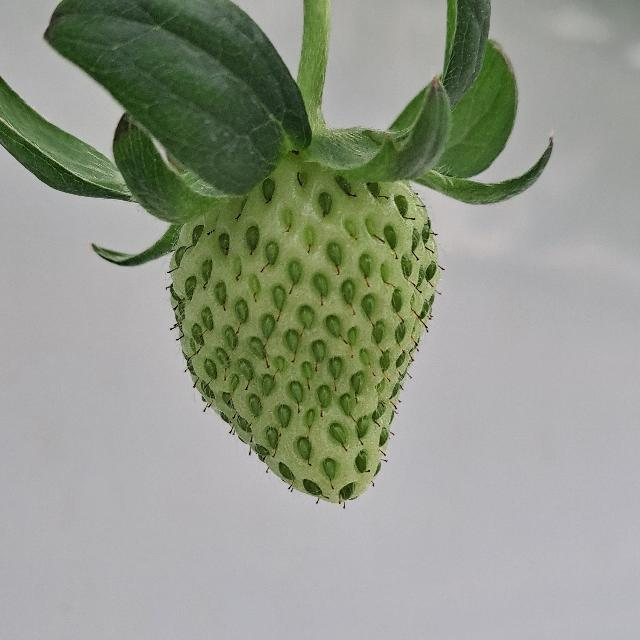Health_25: (169, 150, 439, 502)
